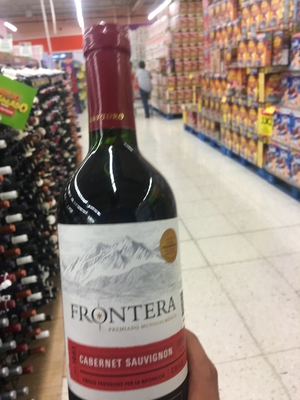frontera cabernet sauvignon: (55, 40, 180, 400)
